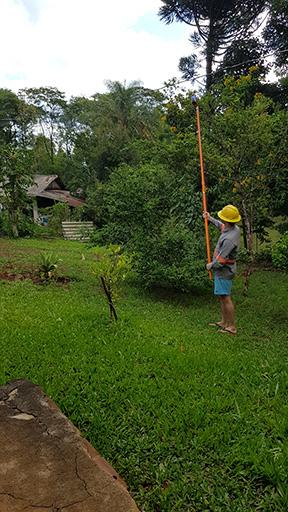Capacete: (216, 203, 242, 227)
Vara_Manobra: (195, 106, 212, 281)
